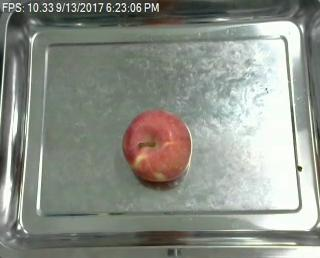apple: (121, 108, 191, 181)
